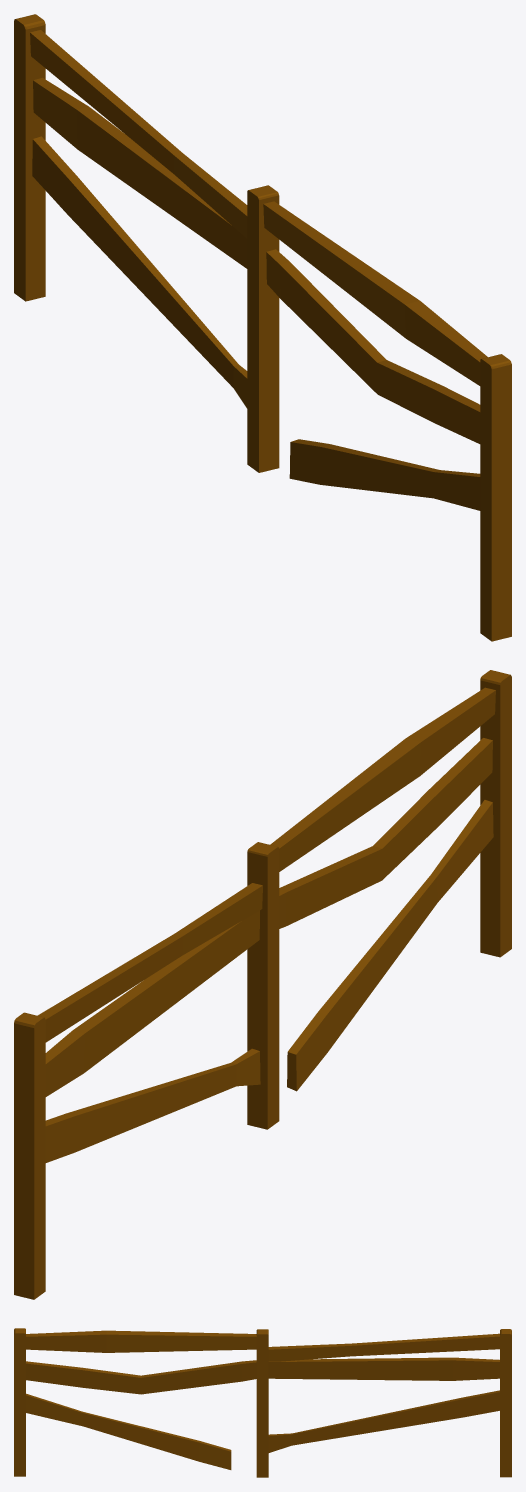
The model's file is Zaun.fbx.
3 views of the same model, one above another, from view 1: azimuth 30°, elevation 25°; view 2: azimuth 150°, elevation 25°; view 3: azimuth 270°, elevation 25° (orthographic). The views are drawn at different scales.
Visible parts, largest first — view 1: Cube; view 2: Cube; view 3: Cube.
Boxes of the visible parts, box(x1,y1,x2,y2) form: Cube: box(14, 14, 511, 641); Cube: box(14, 670, 511, 1299); Cube: box(14, 1328, 511, 1477).
Bounding box in the file's own units: 200 × 2624 × 8203.
